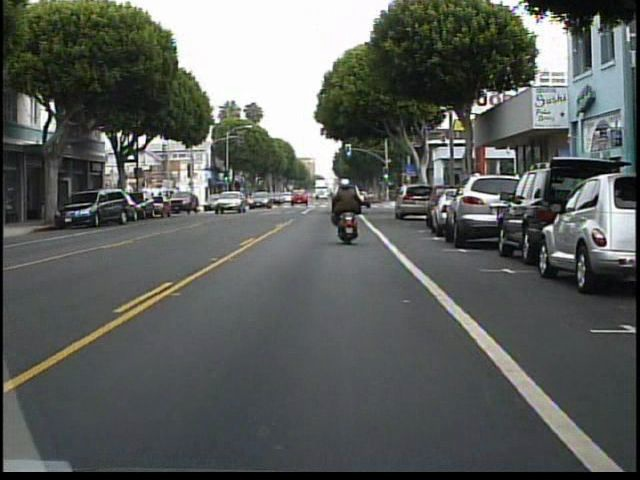person: (328, 173, 367, 243)
